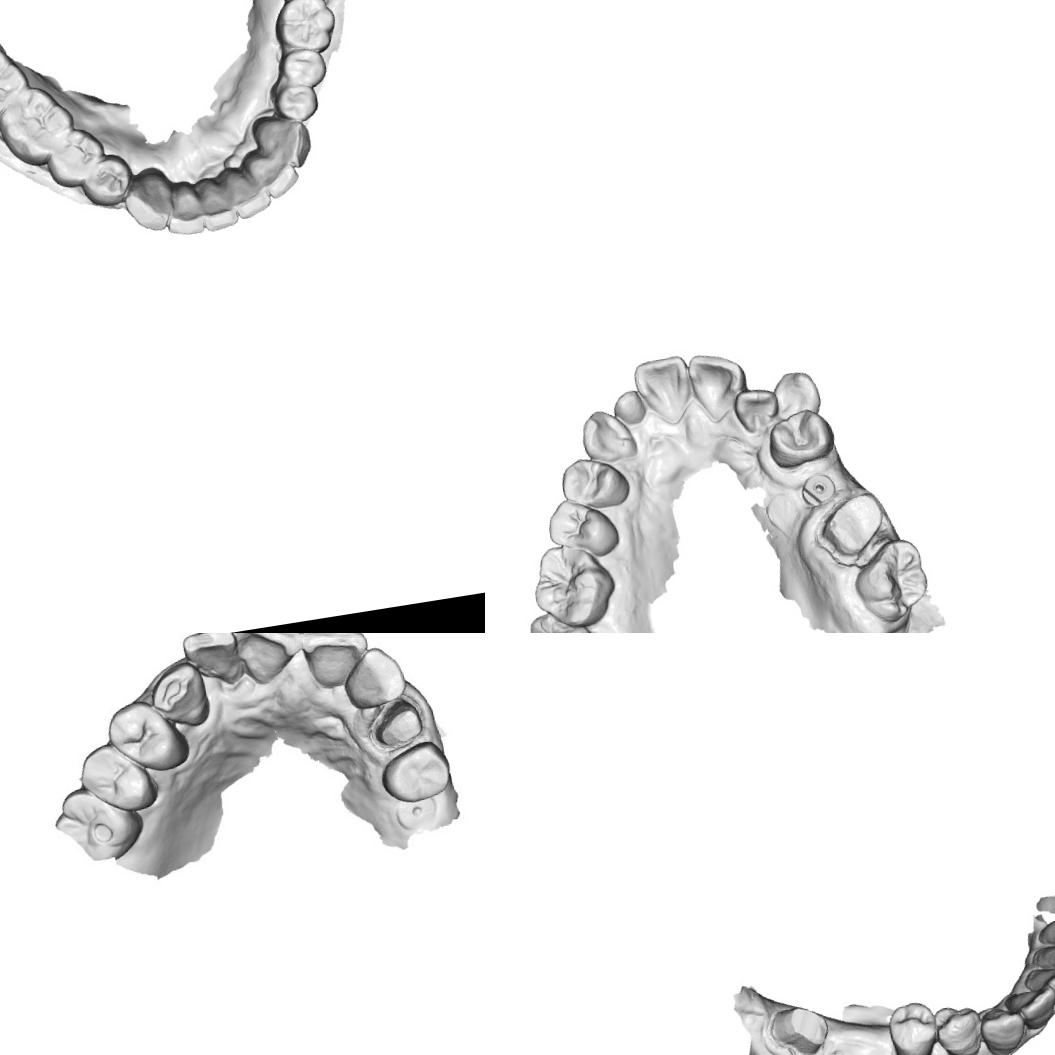canine: (145, 658, 216, 732), (118, 164, 178, 236), (250, 109, 316, 174), (576, 404, 640, 467), (769, 367, 824, 420), (975, 1002, 1030, 1055)
crown: (812, 487, 892, 563), (763, 1000, 835, 1055), (371, 699, 427, 751)
implant: (389, 795, 446, 834), (796, 468, 841, 510)
incisor: (684, 346, 754, 427), (630, 352, 697, 430), (344, 640, 408, 718), (298, 633, 373, 690), (177, 633, 245, 691), (231, 633, 308, 683), (244, 146, 302, 203), (221, 161, 274, 222), (159, 176, 208, 238), (192, 172, 241, 232), (730, 384, 784, 438), (1001, 985, 1055, 1033), (1020, 960, 1055, 1009), (610, 388, 649, 428), (1027, 925, 1055, 974), (1031, 900, 1055, 946)
molar: (525, 537, 620, 633), (51, 782, 149, 869), (847, 532, 935, 628), (0, 80, 81, 172), (269, 0, 341, 59), (0, 39, 36, 131), (524, 605, 608, 633)
premolar: (543, 490, 624, 565), (107, 695, 184, 768), (378, 734, 458, 804), (78, 742, 154, 814), (762, 404, 838, 472), (556, 450, 634, 516), (40, 123, 110, 193), (76, 150, 139, 212), (882, 996, 944, 1055), (931, 999, 986, 1055), (274, 45, 330, 92), (268, 80, 322, 127)
